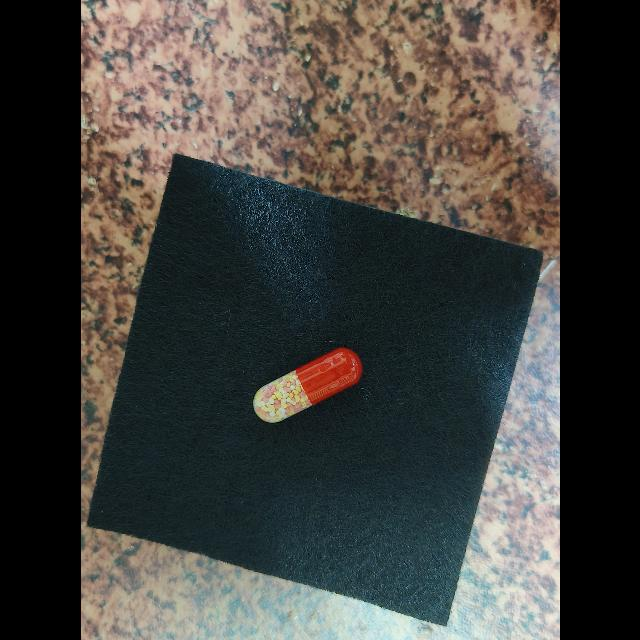Intact Capsule: (253, 347, 362, 423)
